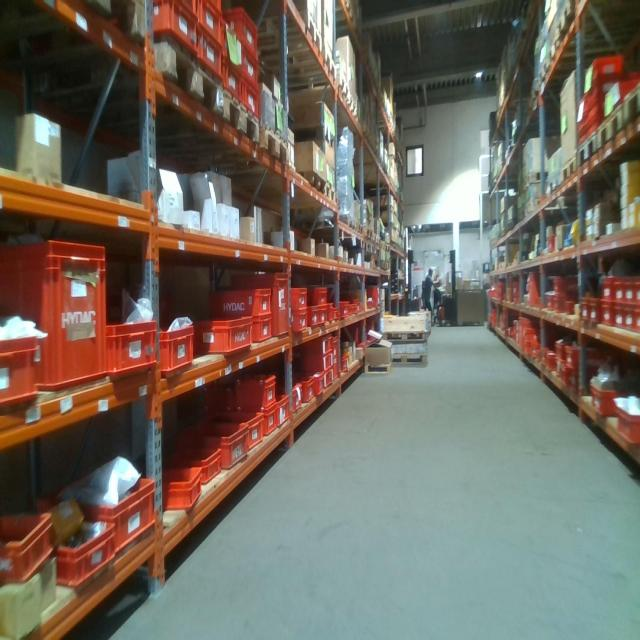pallet: (14, 44, 223, 128), (135, 91, 261, 155), (2, 3, 147, 46), (188, 123, 290, 173), (248, 41, 337, 87), (238, 13, 320, 59), (255, 174, 325, 201), (284, 123, 335, 155), (596, 100, 622, 160), (308, 74, 350, 103), (553, 2, 582, 41), (621, 84, 640, 133), (578, 126, 596, 172), (557, 149, 578, 188), (383, 329, 433, 340), (391, 351, 429, 365), (536, 59, 550, 91), (544, 176, 561, 201), (344, 214, 364, 235), (340, 101, 359, 123), (550, 37, 563, 65), (323, 191, 337, 208), (356, 228, 375, 240), (380, 239, 385, 248)
pallet_truck: (432, 242, 457, 331), (402, 246, 423, 312)
small_load_carrier: (2, 231, 110, 403), (86, 465, 157, 556), (50, 519, 115, 591), (1, 496, 54, 583), (2, 323, 41, 407), (190, 317, 252, 365), (142, 4, 197, 58), (108, 318, 160, 371), (160, 318, 197, 383), (208, 281, 274, 317), (155, 465, 201, 516), (228, 369, 278, 410), (191, 34, 226, 91), (224, 7, 260, 58), (176, 441, 222, 480), (222, 409, 263, 451), (203, 429, 244, 470), (610, 390, 639, 447), (271, 270, 293, 340), (586, 377, 614, 429), (197, 2, 226, 48), (585, 52, 618, 90), (253, 404, 282, 442), (241, 82, 265, 126), (220, 69, 242, 106), (582, 83, 609, 112), (583, 100, 606, 134), (305, 333, 334, 358), (287, 311, 307, 345), (248, 317, 274, 343), (238, 50, 259, 81), (329, 334, 340, 393), (289, 283, 311, 311), (222, 24, 236, 68), (586, 116, 609, 140), (567, 372, 586, 400), (596, 269, 613, 299), (305, 355, 334, 372), (566, 344, 587, 367), (553, 343, 571, 368), (290, 382, 306, 410), (174, 1, 197, 20), (621, 276, 636, 305), (277, 393, 289, 428), (587, 299, 602, 326), (303, 371, 316, 401), (612, 270, 624, 302), (310, 285, 329, 305), (315, 364, 327, 394), (303, 302, 316, 327), (556, 297, 570, 320), (600, 297, 612, 323), (365, 276, 380, 296), (623, 310, 636, 332), (551, 272, 566, 291), (329, 301, 340, 326), (365, 296, 386, 309), (340, 299, 351, 321), (612, 305, 623, 323), (559, 371, 570, 389), (324, 368, 334, 387), (321, 305, 329, 323), (581, 299, 587, 320), (636, 311, 640, 334), (635, 283, 638, 304)
